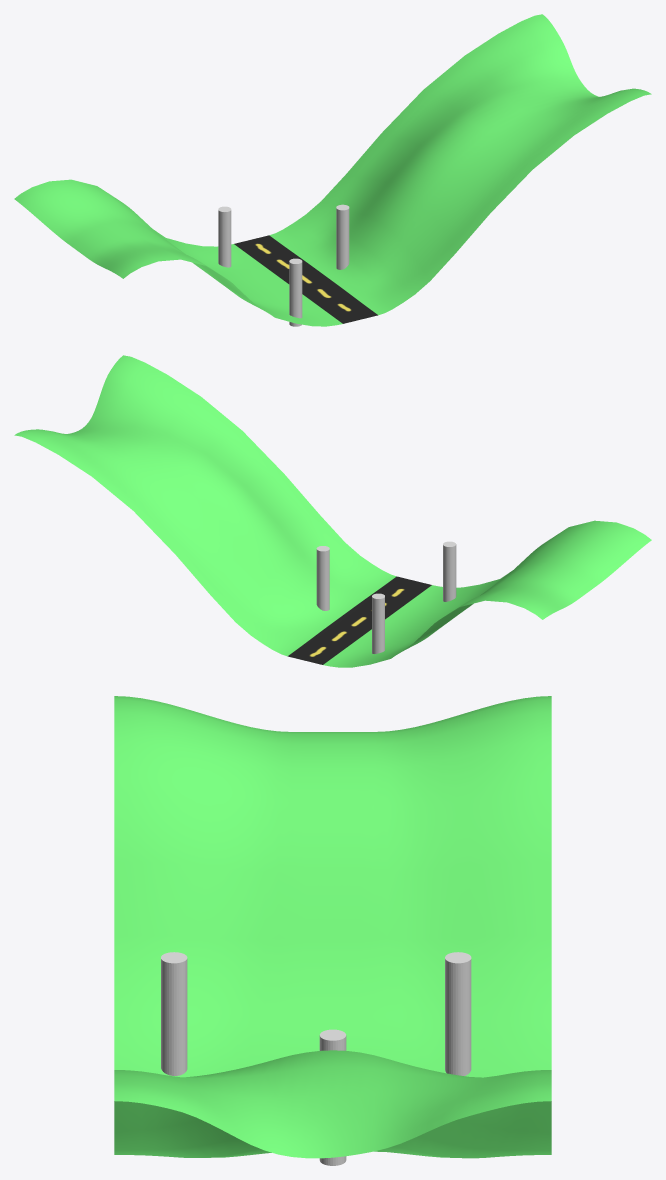
The model's file is terrain.glb.
The picture shows the model from 3 angles, top to bottom: view 1: azimuth 30°, elevation 25°; view 2: azimuth 150°, elevation 25°; view 3: azimuth 270°, elevation 25°; orthographic projection. The views are drawn at different scales.
Visible parts, largest first — view 1: Plane, Cylinder, Cylinder.001, Cylinder.002; view 2: Plane, Cylinder, Cylinder.001, Cylinder.002; view 3: Plane, Cylinder.002, Cylinder.001, Cylinder.
Boxes of the visible parts, x1,y1,x2,y2 form: Plane: (14,14,651,326); Cylinder: (336,204,349,269); Cylinder.001: (289,258,302,326); Cylinder.002: (218,206,231,267); Plane: (14,355,651,667); Cylinder: (316,546,329,610); Cylinder.001: (443,541,456,601); Cylinder.002: (372,593,384,653); Plane: (114,696,551,1158); Cylinder.002: (445,952,471,1075); Cylinder.001: (161,952,187,1075); Cylinder: (319,1029,346,1165).
Bounding box in the file's own units: 55.84 × 15.94 × 20.
1 material, 1 textured.
